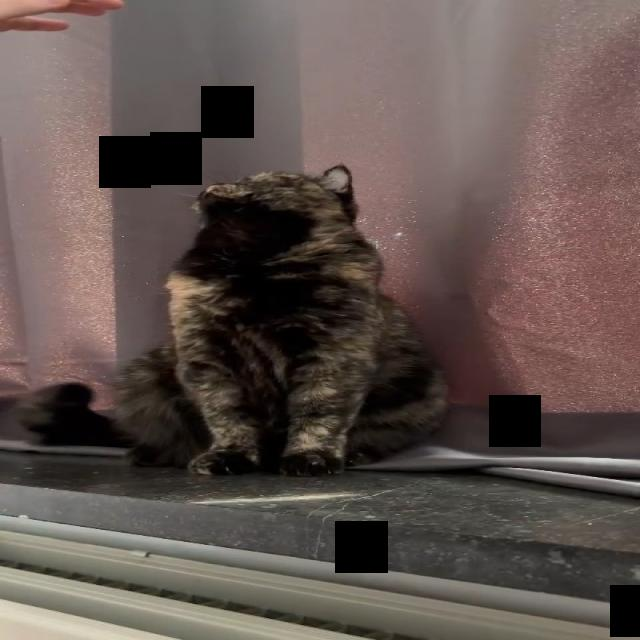authorized: (110, 163, 450, 477)
